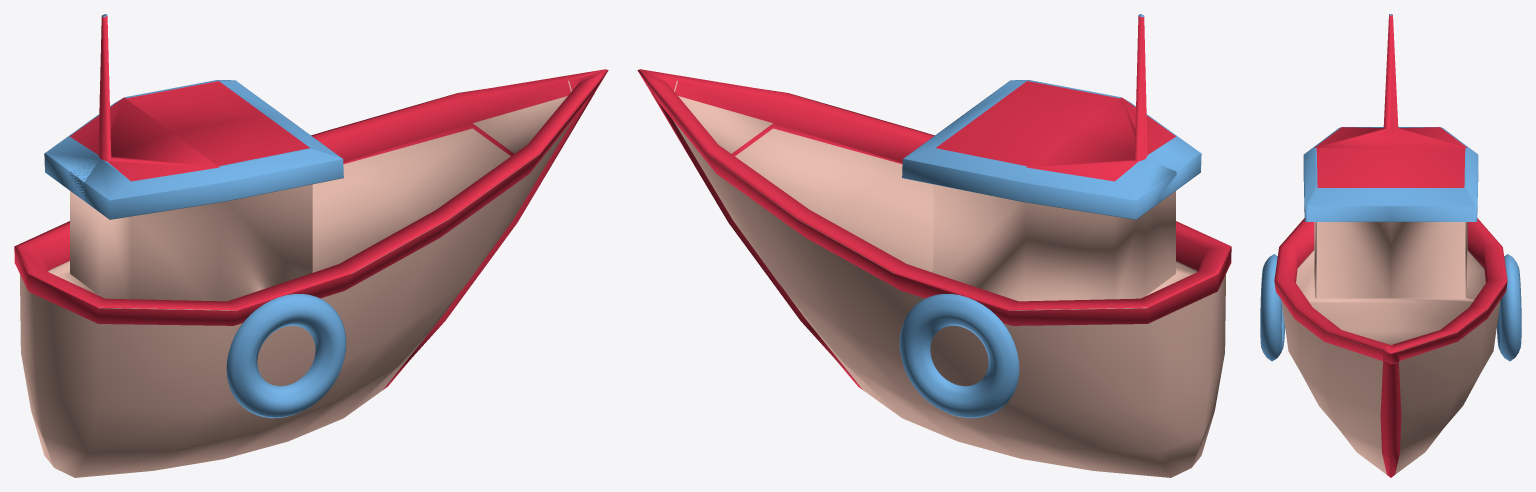
The model's file is coloringguys_ship.fbx.
3 renders of one model, left to right at view 1: azimuth 30°, elevation 25°; view 2: azimuth 150°, elevation 25°; view 3: azimuth 270°, elevation 25°, orthographic. The views are drawn at different scales.
Parts seen in each view (by area): view 1: Куб; view 2: Куб; view 3: Куб.
Part boxes in pixels (box(x1,y1,x2,y2)): Куб: box(14, 14, 608, 477); Куб: box(637, 14, 1231, 477); Куб: box(1260, 14, 1521, 477).
Size of the model in its own units: 2520 by 1826 by 1226.
